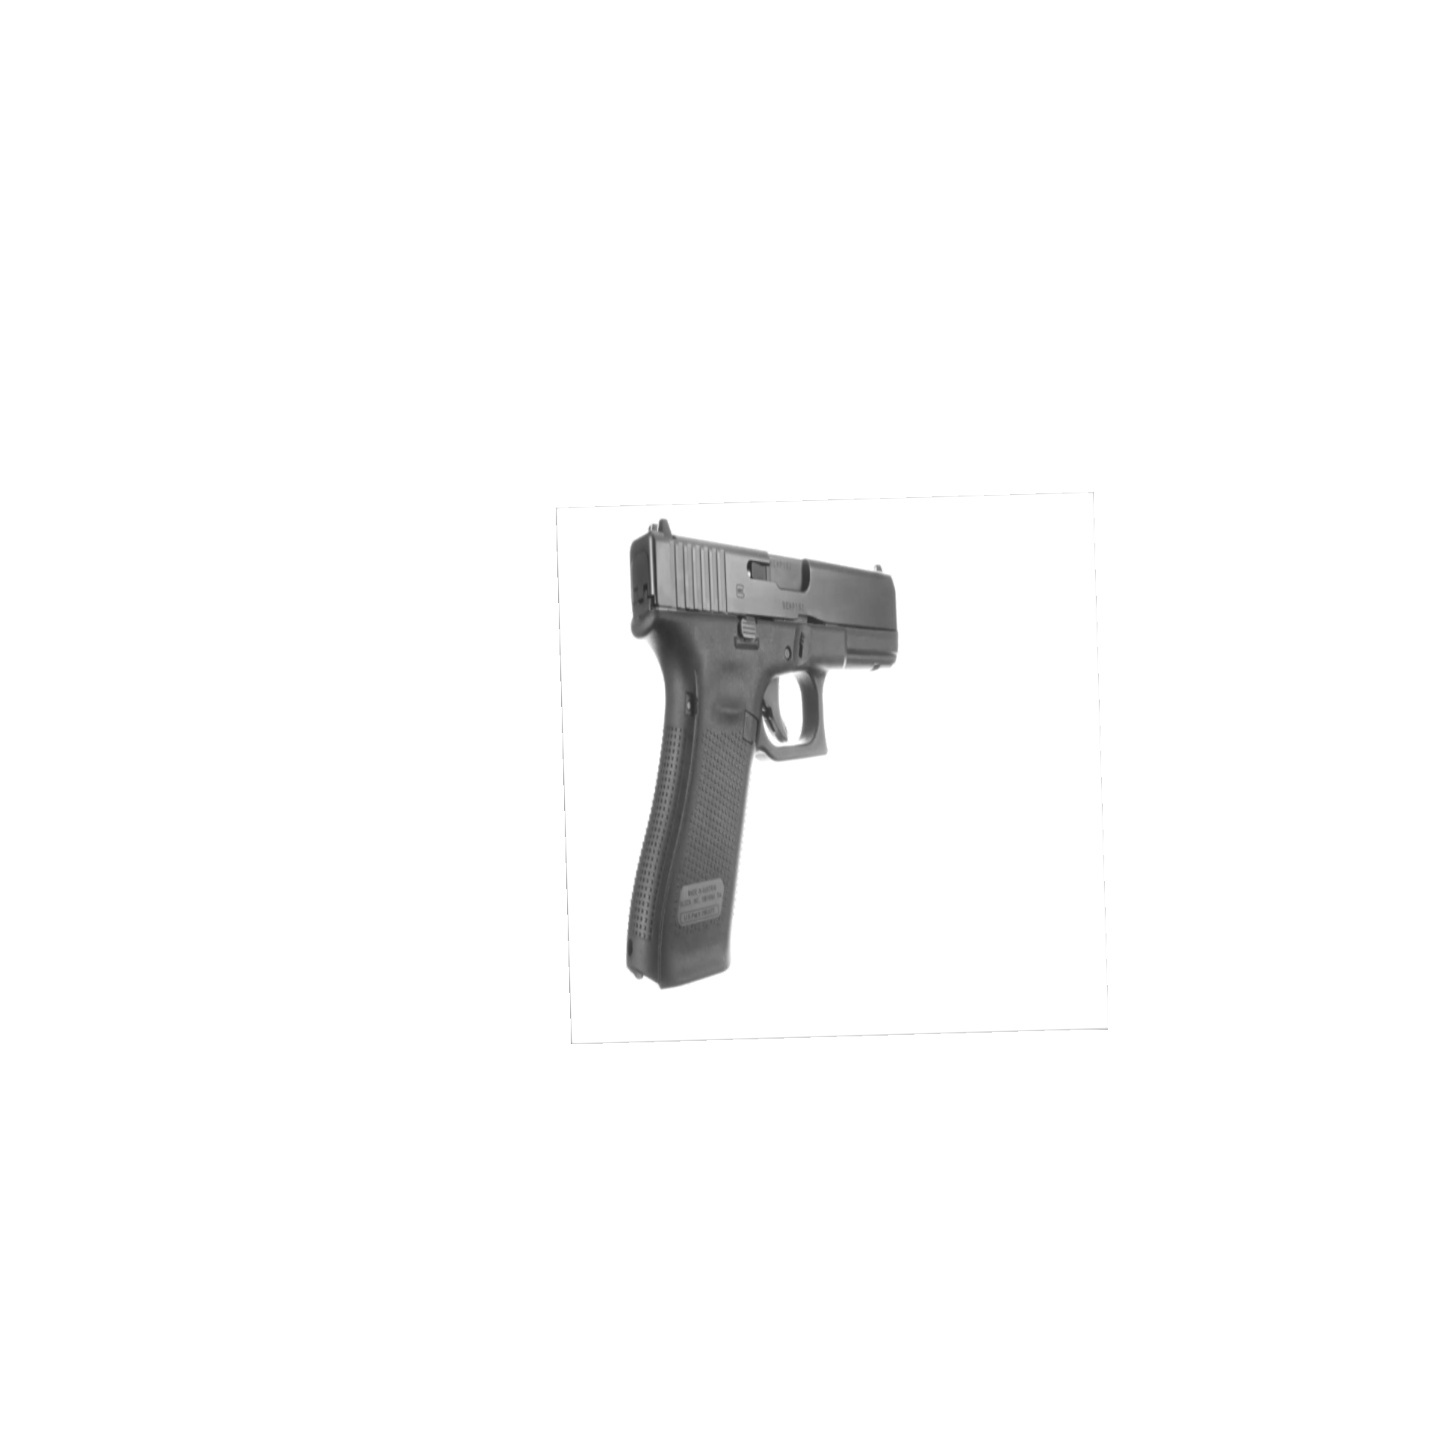gun: (626, 516, 902, 993)
